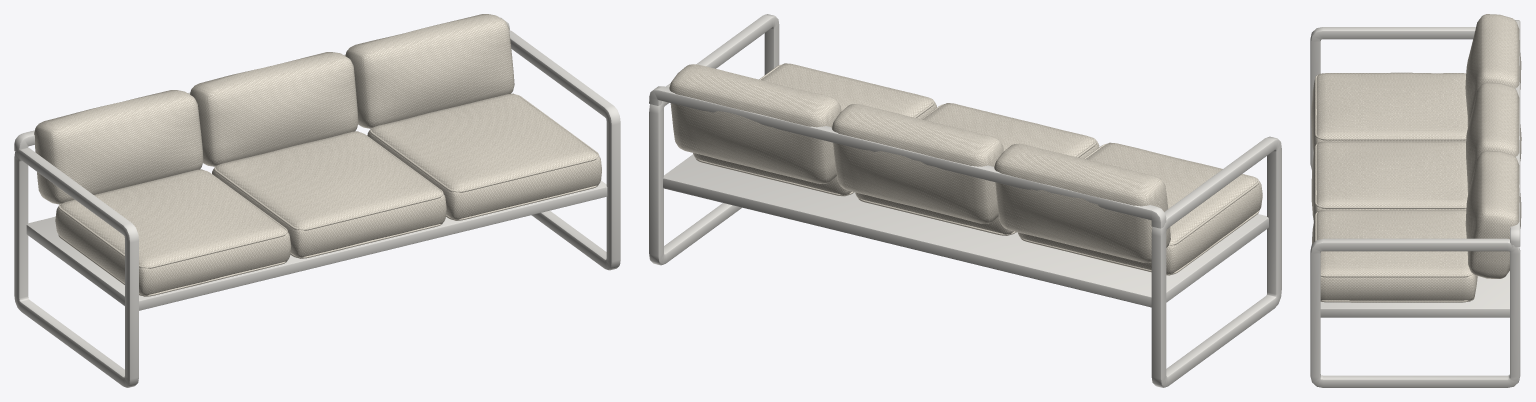
File: sofa_aluminio_blanco.glb
The picture shows the model from 3 angles, left to right: view 1: azimuth 30°, elevation 25°; view 2: azimuth 150°, elevation 25°; view 3: azimuth 270°, elevation 25°; orthographic projection. The views are drawn at different scales.
Parts seen in each view (by area): view 1: sofa_aluminio_blanco; view 2: sofa_aluminio_blanco; view 3: sofa_aluminio_blanco.
Part boxes in pixels (<box>): sofa_aluminio_blanco: <box>14,14,620,387</box>; sofa_aluminio_blanco: <box>649,14,1281,387</box>; sofa_aluminio_blanco: <box>1310,14,1521,387</box>.
Bounding box in the file's own units: 2 × 0.7367 × 0.825.
2 materials, 1 textured.
